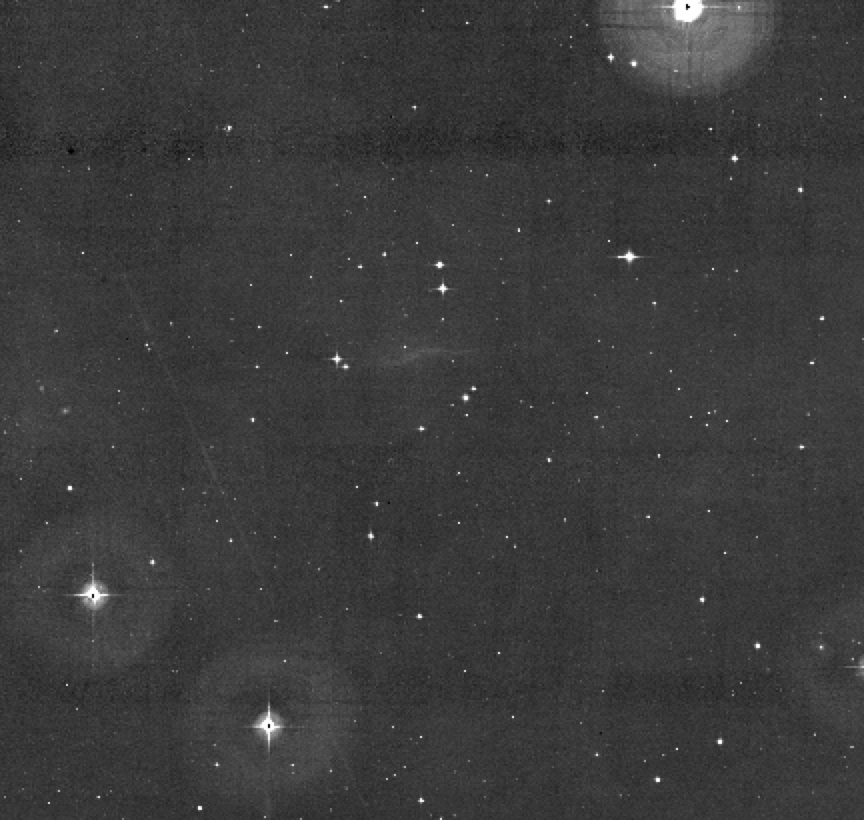Halpha: (348, 321, 522, 396)
